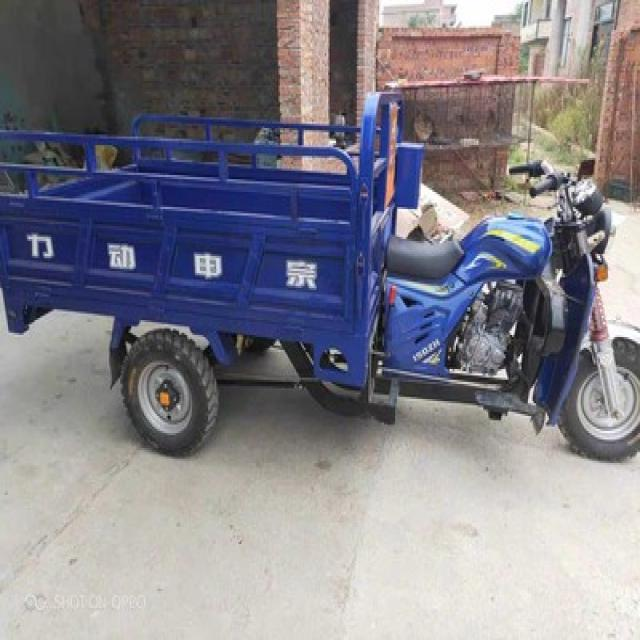tricycle: (2, 87, 632, 463)
